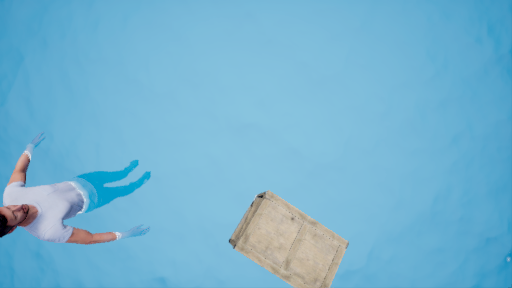person: (1, 136, 166, 250)
